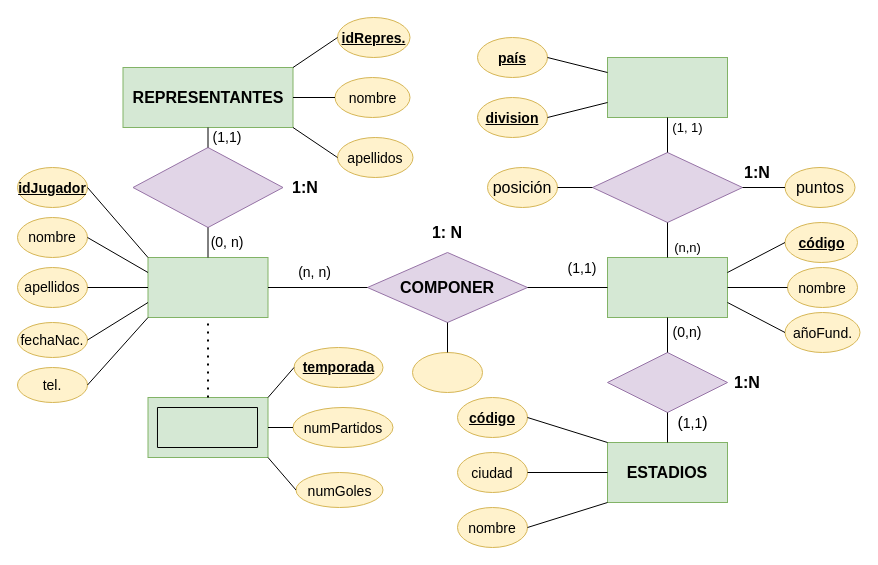
Image size: 878x565. Some labels were removed from this diagram. Each missing label, with the box of its shape:
dorsal: (412, 352, 482, 392)
EQUIPOS: (606, 256, 728, 318)
HISTORIAL: (147, 396, 268, 458)
JUGADORES: (147, 256, 268, 318)
JUGAR: (606, 352, 728, 412)
LIGAS: (606, 56, 728, 118)
PERTENECER: (592, 152, 742, 222)
REPRESENTAR: (132, 146, 283, 228)
